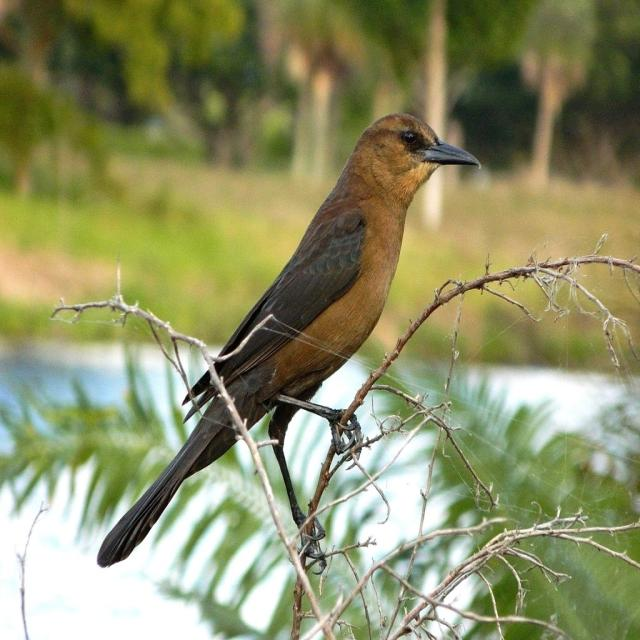bird: (93, 102, 497, 568)
